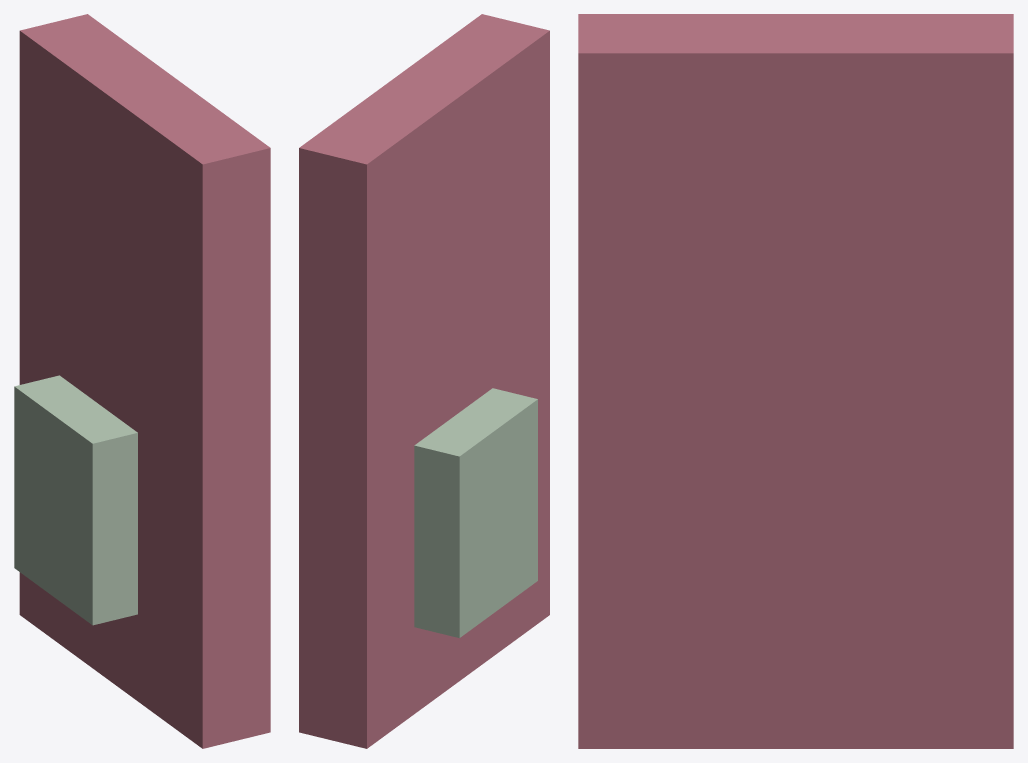
The picture shows the model from 3 angles, left to right: view 1: azimuth 30°, elevation 25°; view 2: azimuth 150°, elevation 25°; view 3: azimuth 270°, elevation 25°; orthographic projection. The views are drawn at different scales.
Parts seen in each view (by area): view 1: world; view 2: world; view 3: world.
Boxes of the visible parts, x1,y1,x2,y2 form: world: (14, 14, 270, 748); world: (299, 14, 549, 748); world: (578, 14, 1013, 748).
Bounding box in the file's own units: 1.55 × 7.4 × 4.2.
